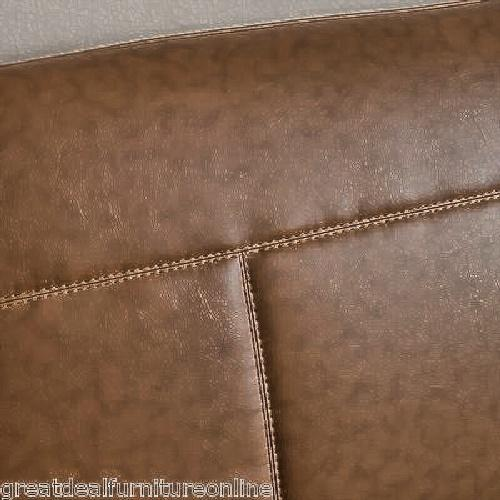sofa: (17, 63, 488, 475)
